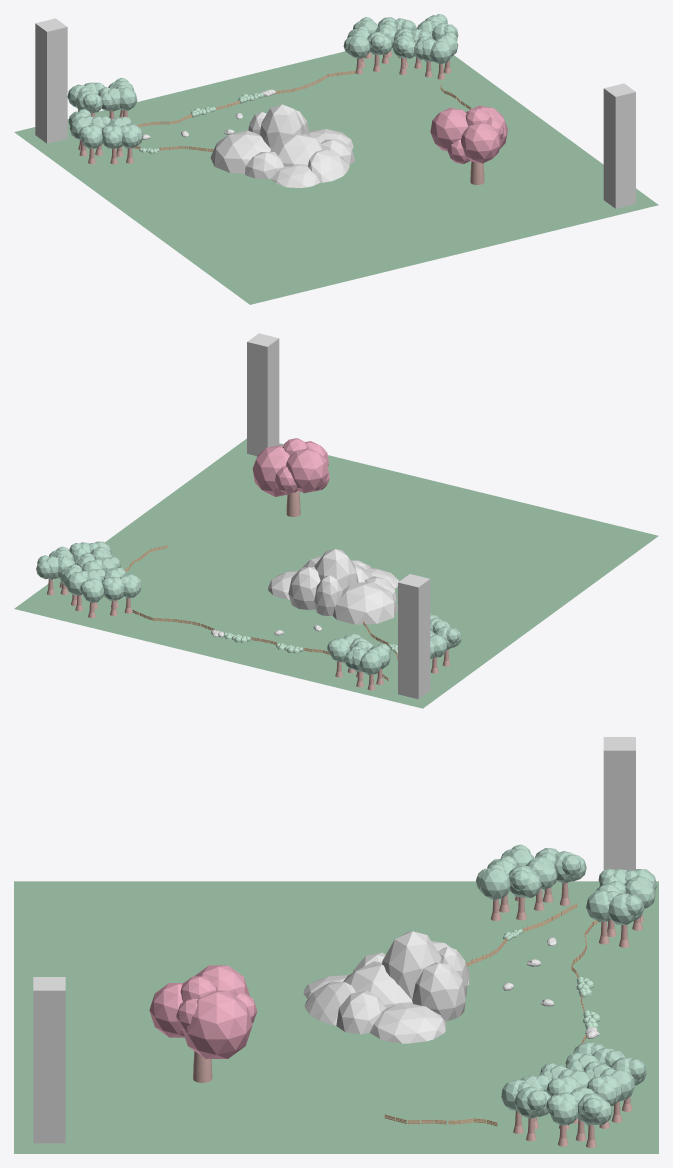
The model's file is Level_WIP.glb.
3 views of the same model, one above another, from view 1: azimuth 30°, elevation 25°; view 2: azimuth 150°, elevation 25°; view 3: azimuth 270°, elevation 25° (orthographic). The views are drawn at different scales.
Parts seen in each view (by area): view 1: Plane, Tree Leaves.001, Tree Leaves.009, Cube.001, Cube, Icosphere.017, Icosphere.012, Icosphere.011, Icosphere.006, Icosphere.004, Icosphere.007, Tree Trunk.001 (+3 smaller); view 2: Plane, Tree Leaves.001, Cube, Cube.001, Icosphere.017, Tree Leaves.009, Icosphere.012, Icosphere.011, Icosphere.010, Icosphere.013, Tree Trunk.001, Tree Trunk.010; view 3: Plane, Tree Leaves.001, Tree Leaves.009, Icosphere.017, Cube.001, Cube, Icosphere.008, Icosphere.010, Icosphere.011, Tree Trunk.010, Icosphere.006, Icosphere.005 (+2 smaller).
Boxes of the visible parts, x1=… form: Plane: x1=14, y1=48, x2=658, y2=304; Tree Leaves.001: x1=343, y1=14, x2=458, y2=64; Tree Leaves.009: x1=67, y1=78, x2=143, y2=148; Cube.001: x1=603, y1=83, x2=635, y2=208; Cube: x1=35, y1=18, x2=67, y2=143; Icosphere.017: x1=430, y1=105, x2=507, y2=164; Icosphere.012: x1=210, y1=130, x2=270, y2=173; Icosphere.011: x1=259, y1=104, x2=304, y2=148; Icosphere.006: x1=270, y1=134, x2=322, y2=166; Icosphere.004: x1=308, y1=149, x2=349, y2=182; Icosphere.007: x1=271, y1=165, x2=319, y2=187; Tree Trunk.001: x1=355, y1=51, x2=451, y2=79; Plane: x1=14, y1=438, x2=658, y2=708; Tree Leaves.001: x1=36, y1=541, x2=141, y2=602; Cube: x1=398, y1=574, x2=430, y2=699; Cube.001: x1=247, y1=333, x2=279, y2=456; Icosphere.017: x1=252, y1=438, x2=329, y2=496; Tree Leaves.009: x1=327, y1=614, x2=461, y2=674; Icosphere.012: x1=333, y1=582, x2=397, y2=624; Icosphere.011: x1=314, y1=549, x2=358, y2=589; Icosphere.010: x1=288, y1=567, x2=320, y2=609; Icosphere.013: x1=314, y1=575, x2=342, y2=615; Tree Trunk.001: x1=47, y1=579, x2=132, y2=618; Tree Trunk.010: x1=335, y1=649, x2=450, y2=690; Plane: x1=14, y1=881, x2=658, y2=1153; Tree Leaves.001: x1=501, y1=1042, x2=646, y2=1125; Tree Leaves.009: x1=476, y1=844, x2=657, y2=924; Icosphere.017: x1=149, y1=965, x2=257, y2=1058; Cube.001: x1=33, y1=977, x2=65, y2=1143; Cube: x1=603, y1=737, x2=635, y2=870; Icosphere.008: x1=369, y1=1003, x2=446, y2=1043; Icosphere.010: x1=412, y1=962, x2=465, y2=1021; Icosphere.011: x1=382, y1=931, x2=442, y2=999; Tree Trunk.010: x1=490, y1=882, x2=643, y2=947; Icosphere.006: x1=343, y1=961, x2=412, y2=1007; Icosphere.005: x1=336, y1=990, x2=386, y2=1034.
Size of the model in its own units: 100 by 35.2 by 100.
Materials: 1 (1 with a texture image).
